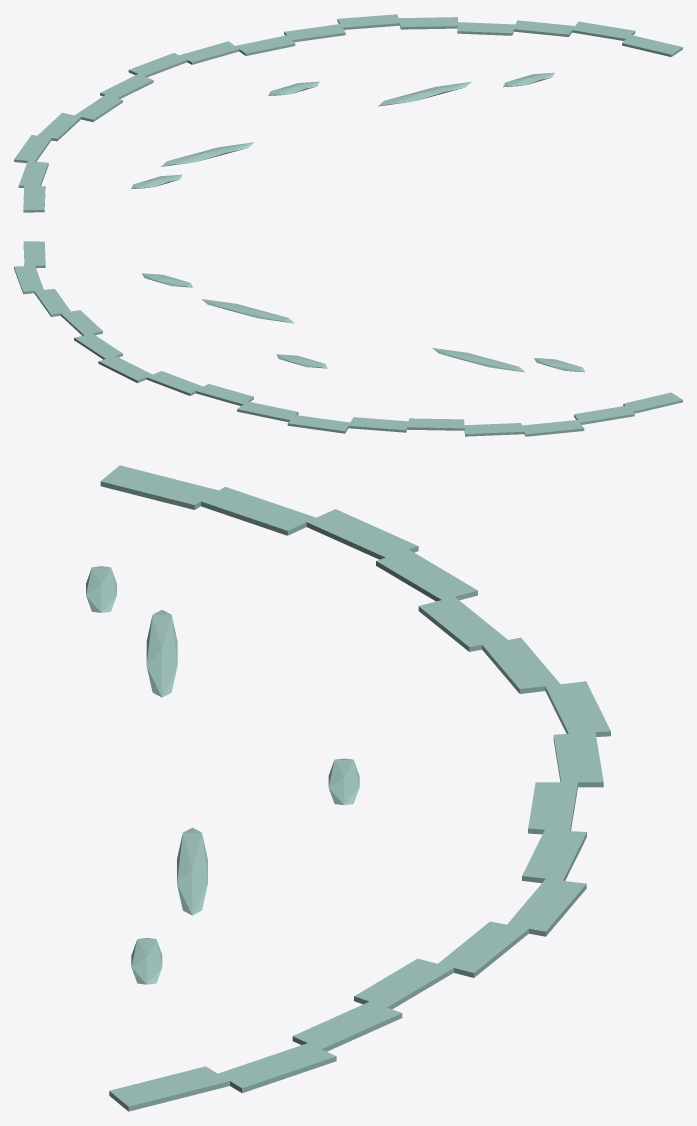
Rendered from PirateCove_ShoreFoam_Showcase.glb.
The picture shows the model from 3 angles, top to bottom: view 1: azimuth 30°, elevation 25°; view 2: azimuth 150°, elevation 25°; view 3: azimuth 270°, elevation 25°; orthographic projection. The views are drawn at different scales.
Visible parts, largest first — view 1: PirateCove_ShoreFoam_Showcase; view 2: PirateCove_ShoreFoam_Showcase; view 3: PirateCove_ShoreFoam_Showcase.
Part boxes in pixels (box(x1,y1,x2,y2)): PirateCove_ShoreFoam_Showcase: box(14, 14, 682, 212); PirateCove_ShoreFoam_Showcase: box(14, 241, 682, 436); PirateCove_ShoreFoam_Showcase: box(86, 465, 610, 1111).
Bounding box in the file's own units: 5 × 0.035 × 1.73.
